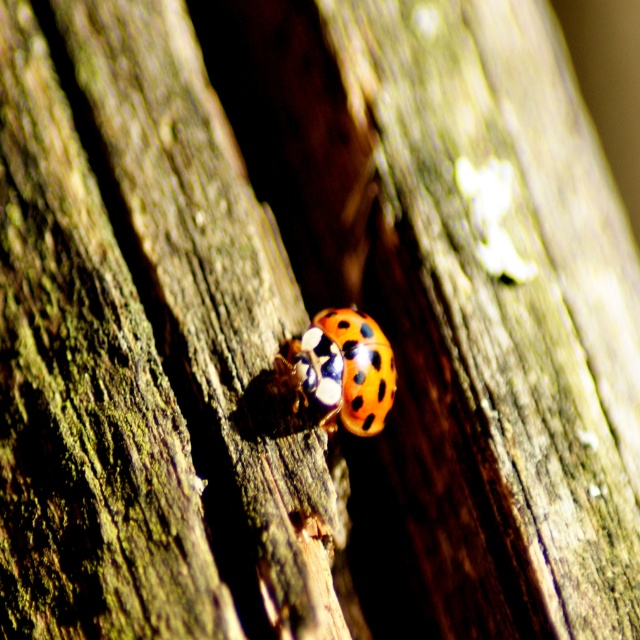Ladybug: (271, 302, 398, 432)
